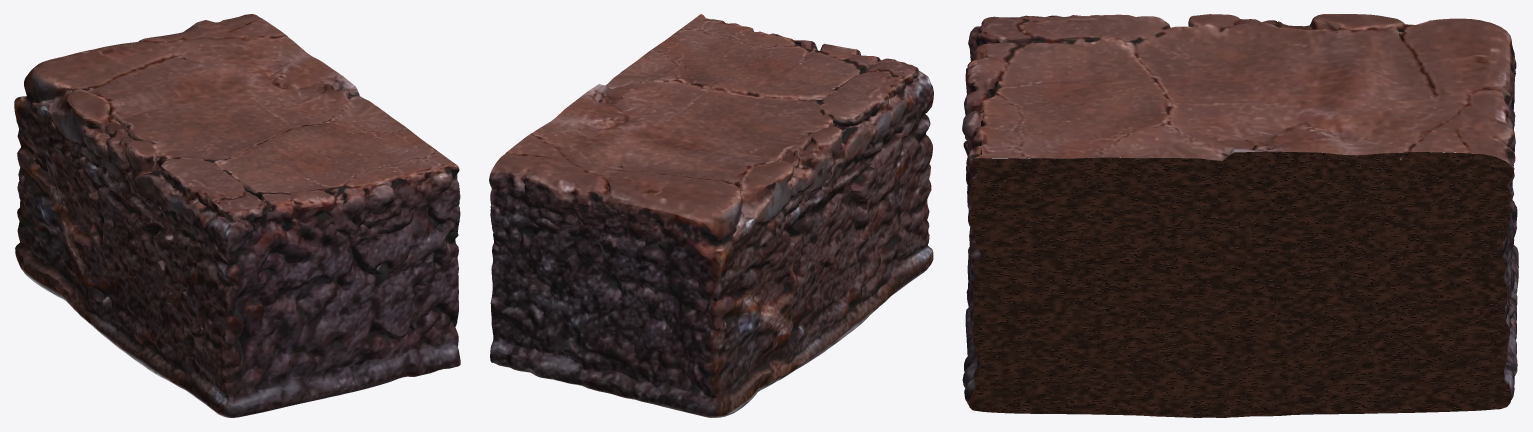
3 views of the same model, side by side, from view 1: azimuth 30°, elevation 25°; view 2: azimuth 150°, elevation 25°; view 3: azimuth 270°, elevation 25° (orthographic). The views are drawn at different scales.
Parts seen in each view (by area): view 1: brownie-physical-calibration-80x35x65mm; view 2: brownie-physical-calibration-80x35x65mm; view 3: brownie-physical-calibration-80x35x65mm.
Part boxes in pixels (x1,y1,x2,y2): brownie-physical-calibration-80x35x65mm: (14, 14, 460, 417); brownie-physical-calibration-80x35x65mm: (489, 14, 933, 417); brownie-physical-calibration-80x35x65mm: (962, 14, 1518, 417).
Bounding box in the file's own units: 0.04 × 0.0346 × 0.065.
2 materials, 2 textured.
